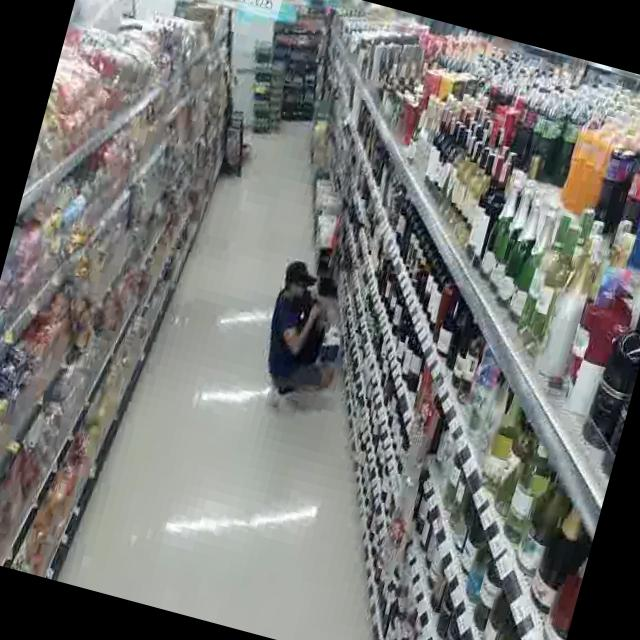shoplifting: (238, 242, 376, 438)
